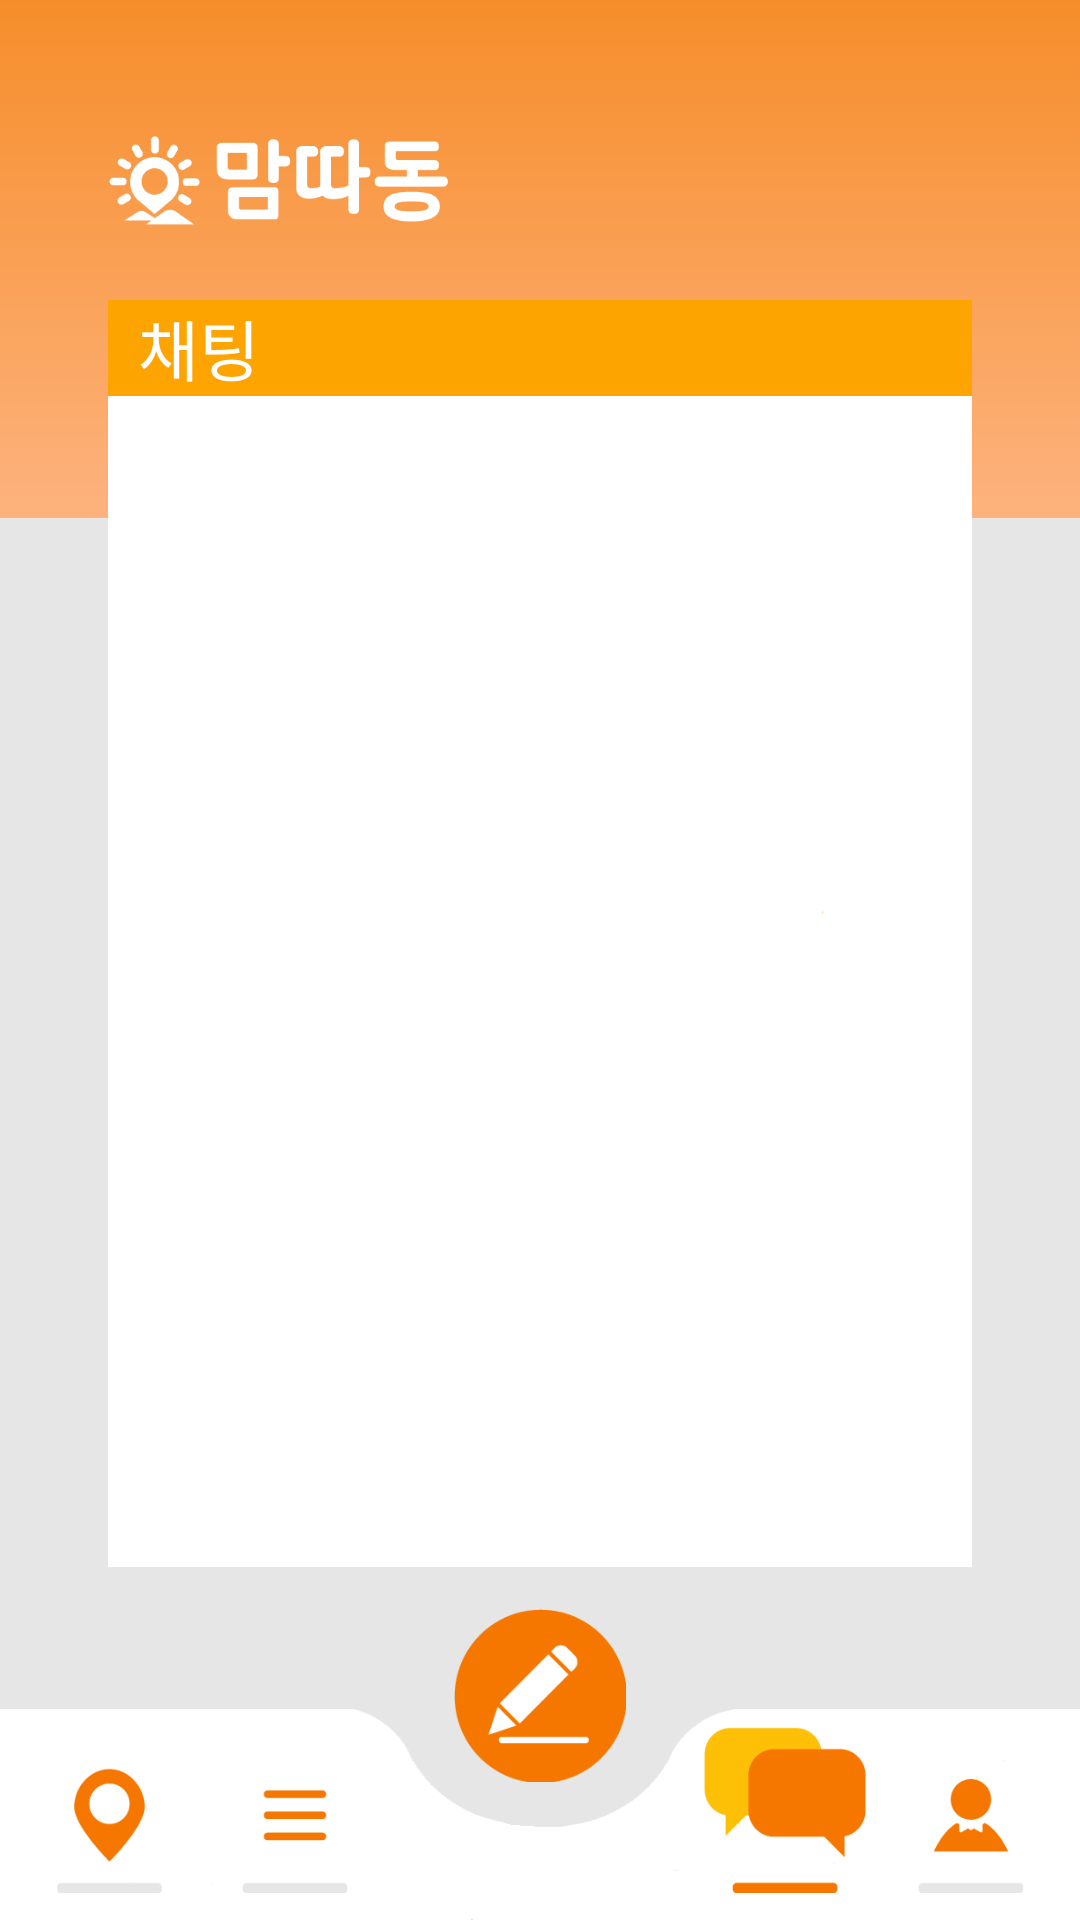

Where to tap for icons on this 1080px×1920px app screen, as (x=x, y=y):
category: (x=295, y=1841)
chat: (x=785, y=1810)
map: (x=109, y=1830)
profile: (x=971, y=1836)
write: (x=540, y=1695)
